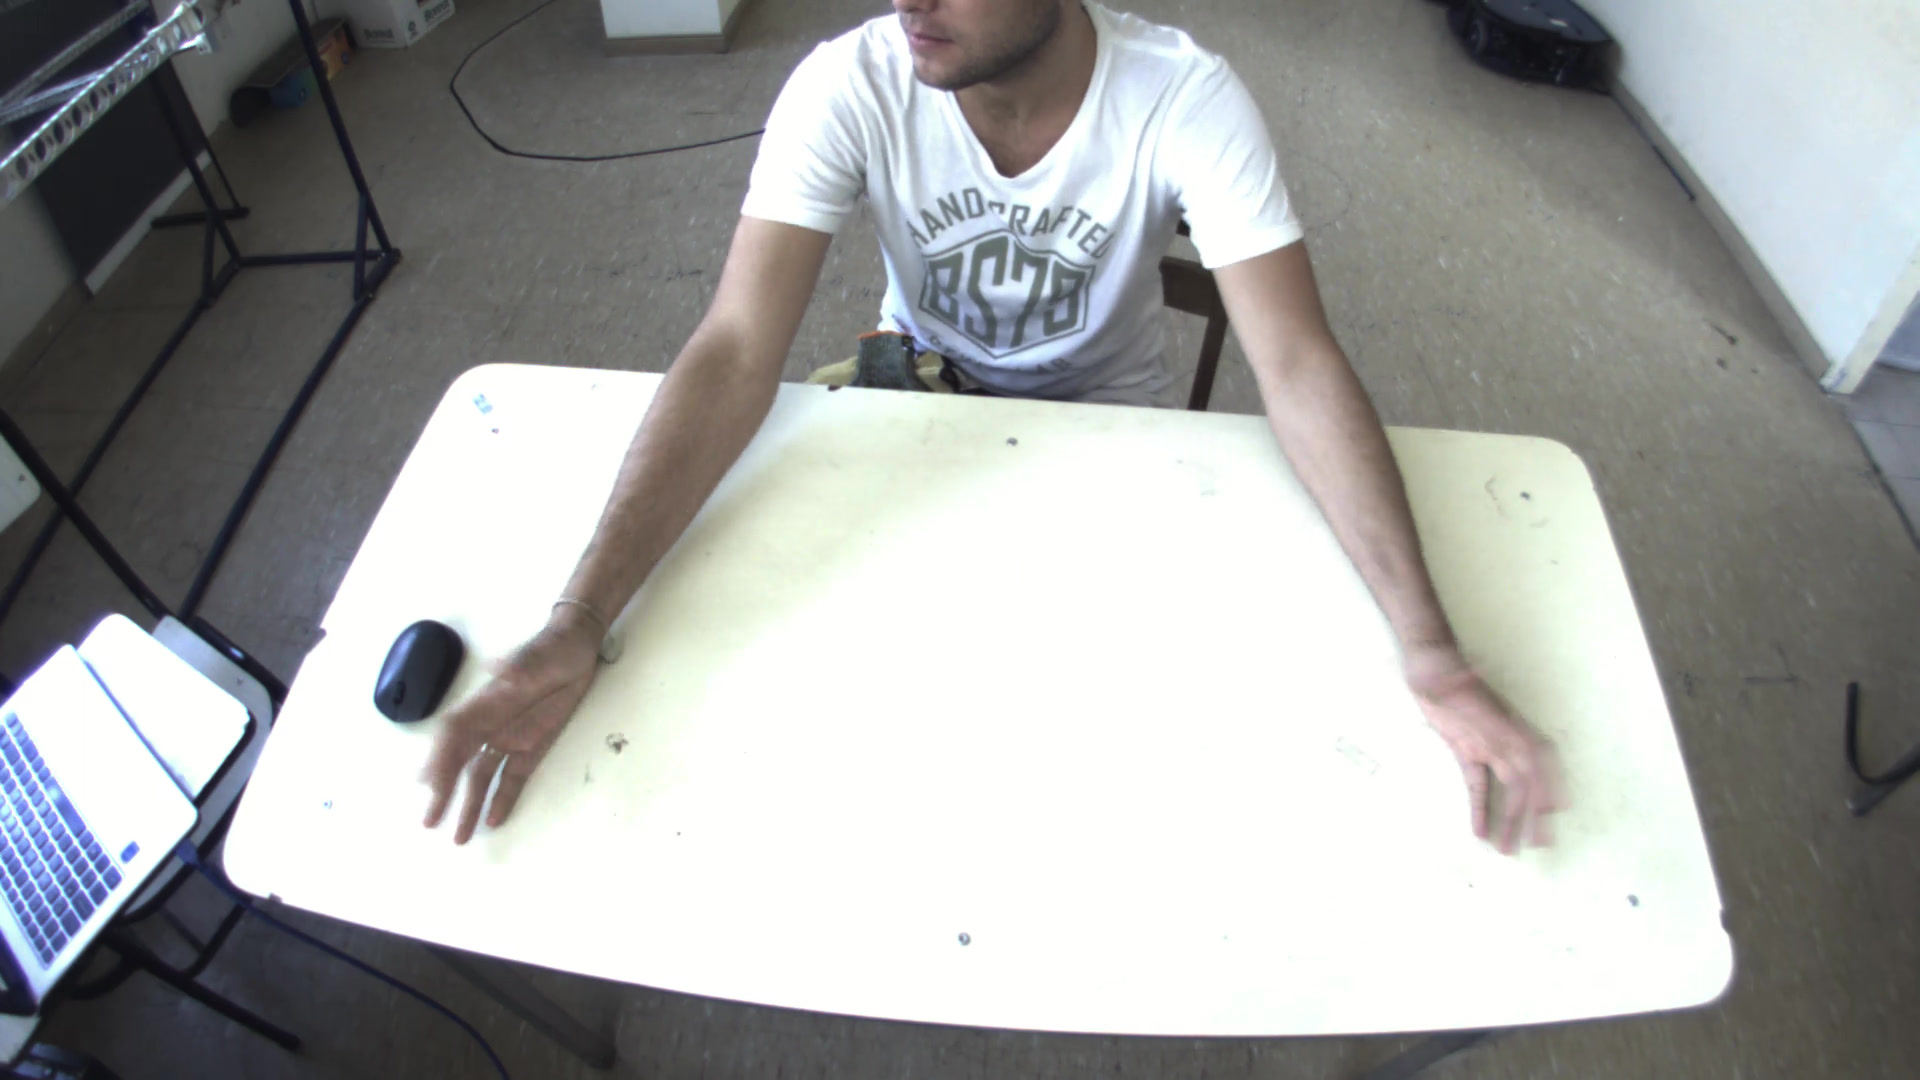hand: (397, 603, 617, 856), (1404, 647, 1590, 878)
